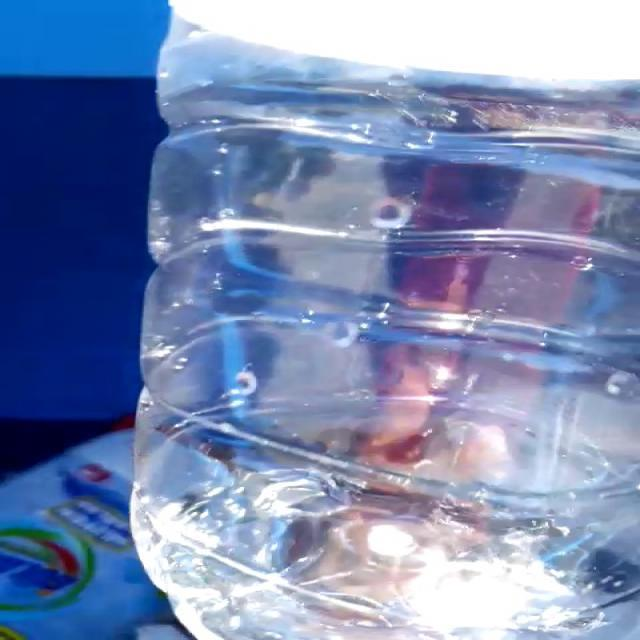Plastic: (131, 19, 640, 640), (133, 20, 639, 640)
